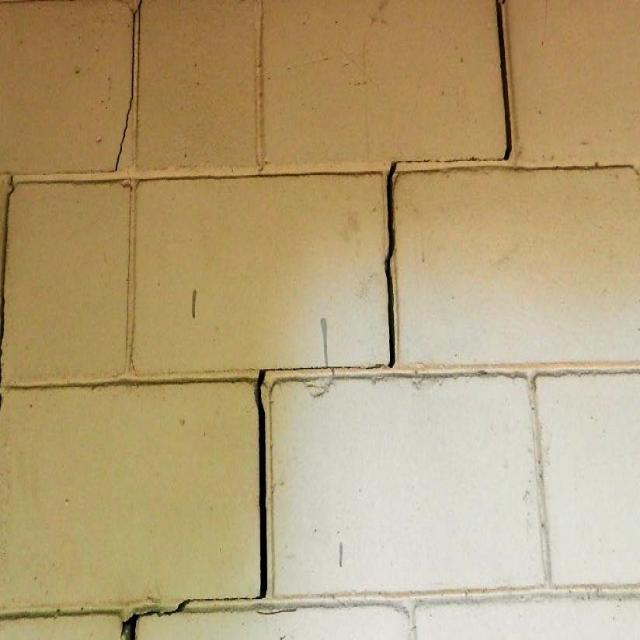Crack: (118, 0, 523, 639), (0, 1, 147, 355)
